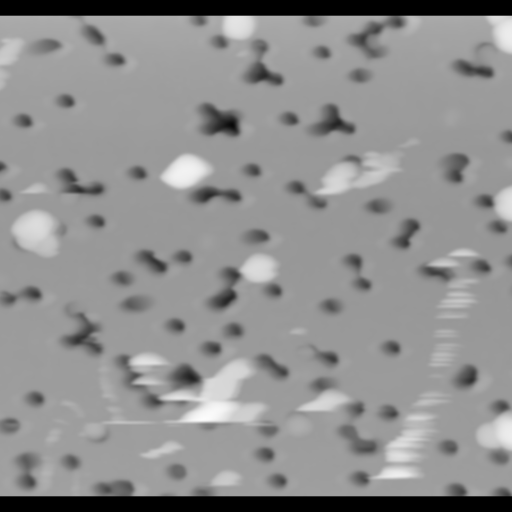Hole: (342, 15, 419, 64), (183, 95, 248, 141), (55, 302, 101, 354), (305, 98, 355, 139), (204, 265, 242, 314), (234, 58, 285, 90), (430, 149, 475, 185), (337, 246, 371, 288), (186, 184, 241, 209), (81, 473, 140, 495), (295, 342, 344, 368), (118, 287, 159, 317), (449, 55, 498, 80), (284, 179, 325, 208), (336, 422, 371, 455), (258, 350, 294, 382), (132, 242, 167, 274), (390, 215, 421, 251), (21, 36, 76, 56), (73, 20, 108, 47), (452, 363, 481, 393), (11, 450, 33, 489), (305, 41, 338, 65), (435, 438, 464, 464), (490, 106, 511, 141), (98, 47, 133, 67), (269, 102, 296, 127), (345, 63, 373, 87), (372, 400, 401, 422), (197, 336, 226, 358), (318, 295, 348, 316), (379, 335, 404, 360), (266, 468, 291, 492), (163, 462, 193, 482), (241, 224, 276, 241), (363, 194, 394, 213), (12, 109, 36, 133), (20, 386, 47, 407), (0, 413, 23, 436), (167, 244, 192, 265), (22, 281, 43, 306), (248, 443, 275, 462), (339, 468, 369, 485), (415, 264, 454, 277), (483, 451, 511, 469), (163, 313, 187, 334), (82, 211, 108, 230), (127, 158, 148, 181), (109, 270, 136, 287), (58, 453, 85, 470), (254, 422, 279, 440), (262, 281, 284, 301), (220, 318, 245, 335), (182, 15, 216, 27), (445, 479, 470, 495), (299, 15, 326, 29), (486, 218, 507, 236), (243, 159, 262, 178), (487, 480, 511, 495), (58, 96, 82, 111), (0, 288, 17, 309), (204, 34, 227, 49), (470, 192, 493, 206), (471, 261, 493, 275), (56, 163, 74, 179), (488, 395, 507, 409), (251, 39, 268, 54), (499, 246, 511, 267), (87, 183, 108, 195), (311, 376, 331, 388), (0, 181, 11, 202), (0, 149, 9, 174), (350, 398, 363, 414), (64, 185, 81, 194)
Particle: (8, 206, 65, 259), (155, 152, 214, 189), (471, 407, 511, 449), (237, 255, 283, 284), (488, 179, 511, 228), (217, 15, 259, 41), (490, 15, 511, 56), (0, 66, 14, 98)
Smear: (128, 350, 257, 422), (368, 413, 437, 482), (90, 357, 130, 424), (354, 145, 409, 187), (295, 385, 350, 414), (311, 159, 356, 193), (119, 347, 174, 372), (136, 437, 187, 462), (192, 468, 249, 489), (0, 26, 25, 66), (404, 387, 445, 411), (33, 451, 55, 492), (50, 396, 88, 417), (438, 288, 475, 309), (445, 242, 483, 259), (20, 177, 50, 195), (40, 428, 66, 447), (443, 276, 475, 290), (286, 322, 312, 339), (421, 255, 458, 266), (67, 174, 97, 187), (431, 312, 466, 322), (432, 327, 460, 339), (422, 354, 460, 362), (432, 342, 465, 351), (401, 133, 422, 147), (424, 361, 453, 368), (427, 349, 458, 355), (428, 371, 445, 379)
